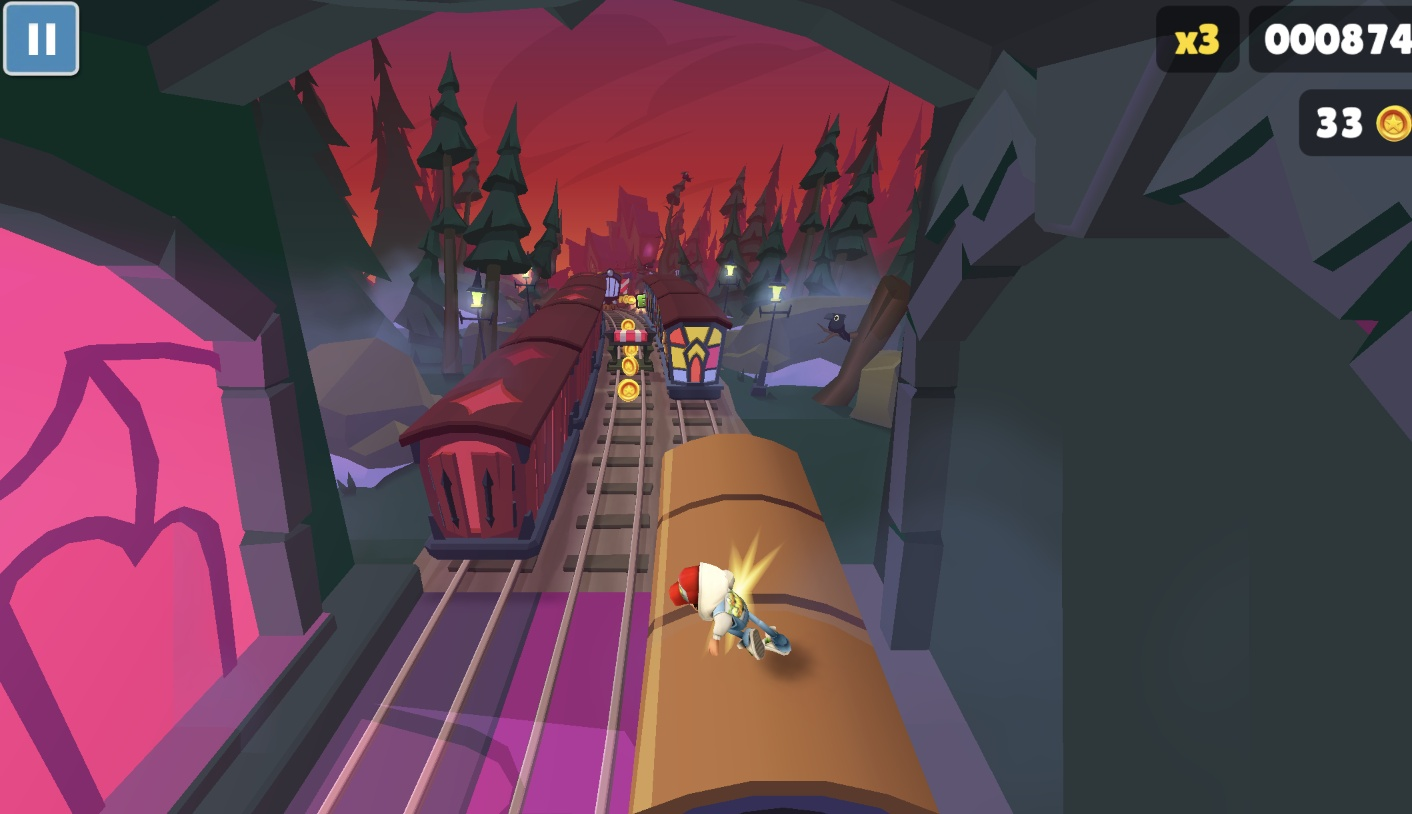ground_barrier: (611, 328, 655, 370)
overhead_barrier: (620, 271, 632, 296)
train: (645, 441, 949, 814), (401, 274, 611, 569), (643, 275, 739, 403), (605, 268, 629, 302)
